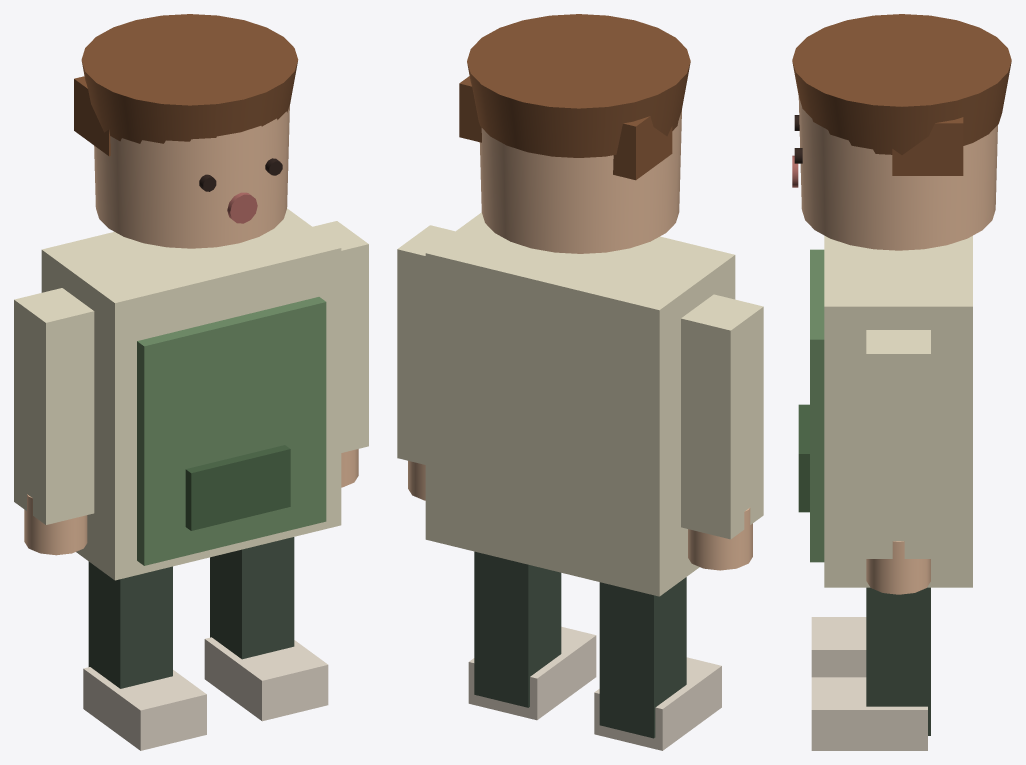
Rendered from customer-04.glb.
3 views of the same model, side by side, from view 1: azimuth 30°, elevation 25°; view 2: azimuth 150°, elevation 25°; view 3: azimuth 270°, elevation 25° (orthographic). The views are drawn at different scales.
Parts seen in each view (by area): view 1: Shirt, Apron, Sleeve (×2), HairCap, Head, Leg (×2), Shoe (×2), ApronPocket, Hand (×2), HairFringe, Smile; view 2: Shirt, Sleeve (×2), HairCap, Leg (×2), Head, Shoe (×2), HairFringe, Hand (×2); view 3: Shirt, HairCap, Head, Sleeve, Shoe (×2), Leg, Apron, HairFringe, Hand, ApronPocket.
Boxes of the visible parts, box(x1,y1,x2,y2) form: Shirt: box(41, 208, 341, 580); Apron: box(137, 297, 326, 565); Sleeve (×2): box(14, 221, 368, 524); HairCap: box(81, 14, 298, 143); Head: box(94, 105, 289, 248); Leg (×2): box(88, 537, 294, 688); Shoe (×2): box(83, 637, 328, 750); ApronPocket: box(185, 445, 290, 530); Hand (×2): box(24, 449, 358, 555); HairFringe: box(74, 76, 110, 156); Smile: box(227, 192, 257, 223); Shirt: box(425, 212, 735, 596); Sleeve (×2): box(397, 225, 763, 539); HairCap: box(467, 14, 690, 157); Leg (×2): box(474, 551, 686, 738); Head: box(479, 110, 681, 253); Shoe (×2): box(468, 626, 721, 750); HairFringe: box(459, 76, 672, 180); Hand (×2): box(408, 461, 752, 570); Shirt: box(824, 235, 972, 587); HairCap: box(792, 14, 1011, 154); Head: box(798, 96, 997, 250); Sleeve: box(866, 330, 930, 558); Shoe (×2): box(811, 617, 927, 750); Leg: box(866, 587, 930, 735); Apron: box(810, 249, 824, 562); HairFringe: box(892, 117, 963, 175); Hand: box(866, 541, 930, 594); ApronPocket: box(798, 404, 809, 512).
Bounding box in the file's own units: 1.18 × 2.2 × 0.68.
